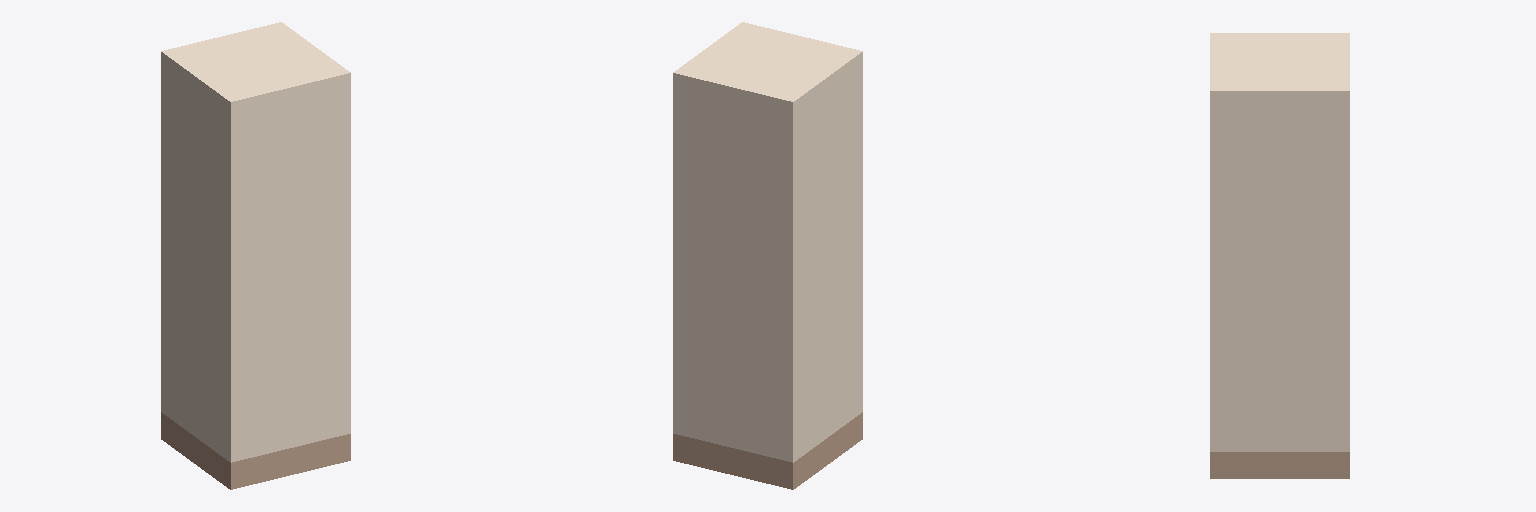
3 renders of one model, left to right at view 1: azimuth 30°, elevation 25°; view 2: azimuth 150°, elevation 25°; view 3: azimuth 270°, elevation 25°, orthographic.
Parts seen in each view (by area): view 1: Cube; view 2: Cube; view 3: Cube.
Part boxes in pixels (x1,y1,x2,y2): Cube: (161, 22, 350, 489); Cube: (673, 22, 862, 489); Cube: (1210, 33, 1349, 478).
Size of the model in its own units: 4 by 12.3 by 4.
Materials: 1 (1 with a texture image).